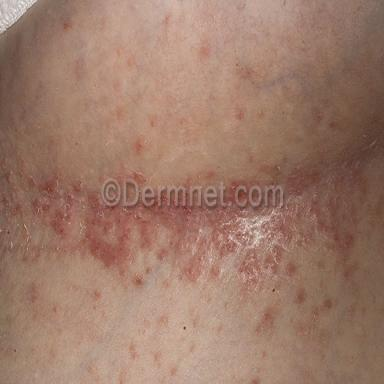Darier_s-Disease: (0, 151, 382, 335)
